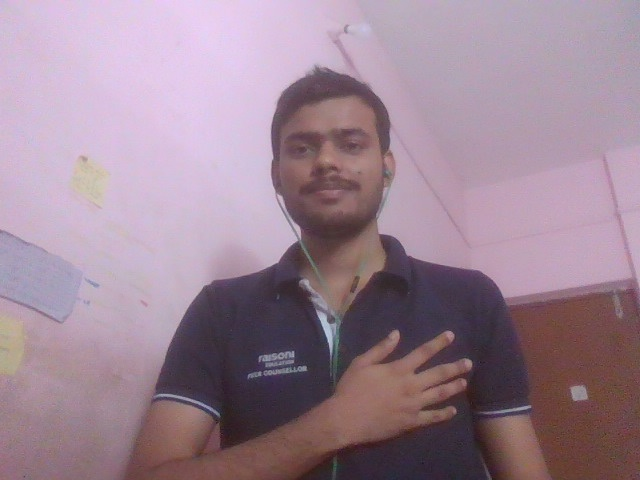Please: (257, 258, 503, 456)
